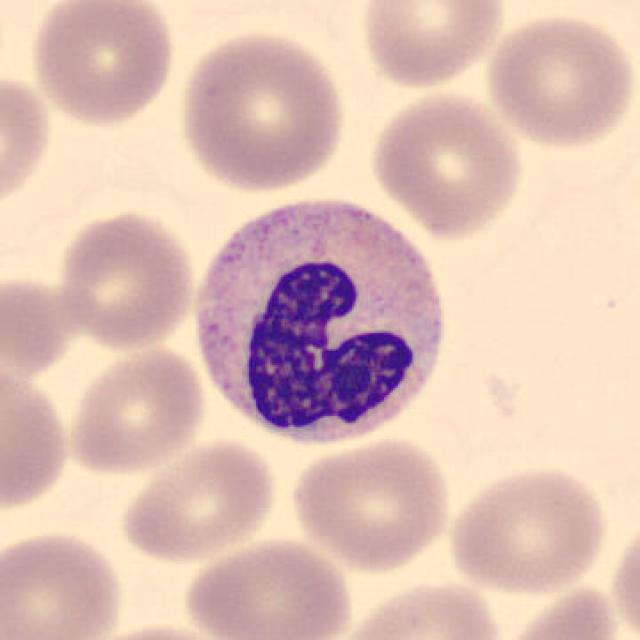Neutrophil: (183, 184, 457, 458)
RBC: (172, 26, 350, 196), (366, 88, 526, 240), (285, 434, 455, 574), (442, 460, 612, 596), (482, 8, 636, 152), (115, 434, 281, 566), (53, 206, 199, 353), (62, 338, 210, 478), (24, 0, 179, 130), (180, 534, 356, 640), (0, 525, 130, 640), (356, 0, 508, 92), (0, 358, 75, 518), (330, 576, 508, 640), (0, 272, 78, 389), (494, 578, 633, 640), (0, 69, 57, 217), (606, 511, 640, 640), (73, 619, 242, 640)
